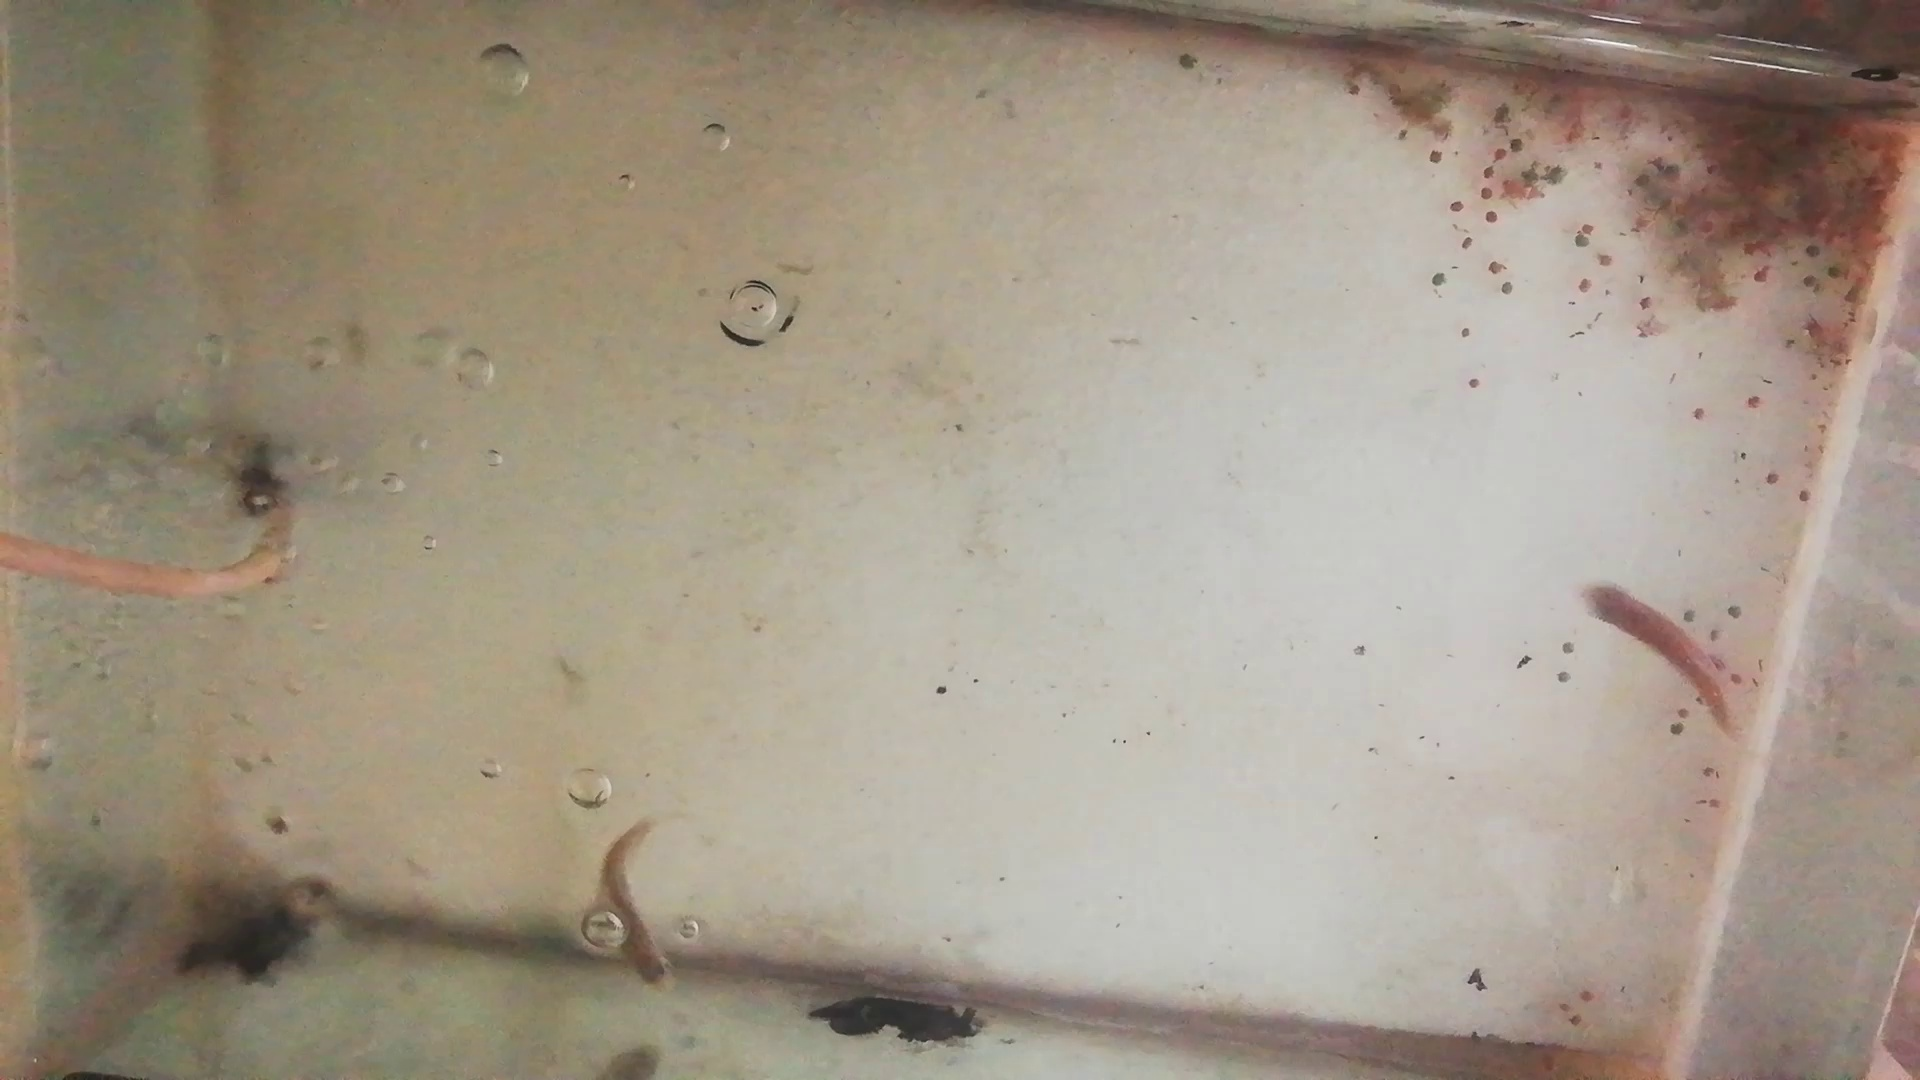fish: (1581, 582, 1731, 729), (597, 820, 678, 993)
